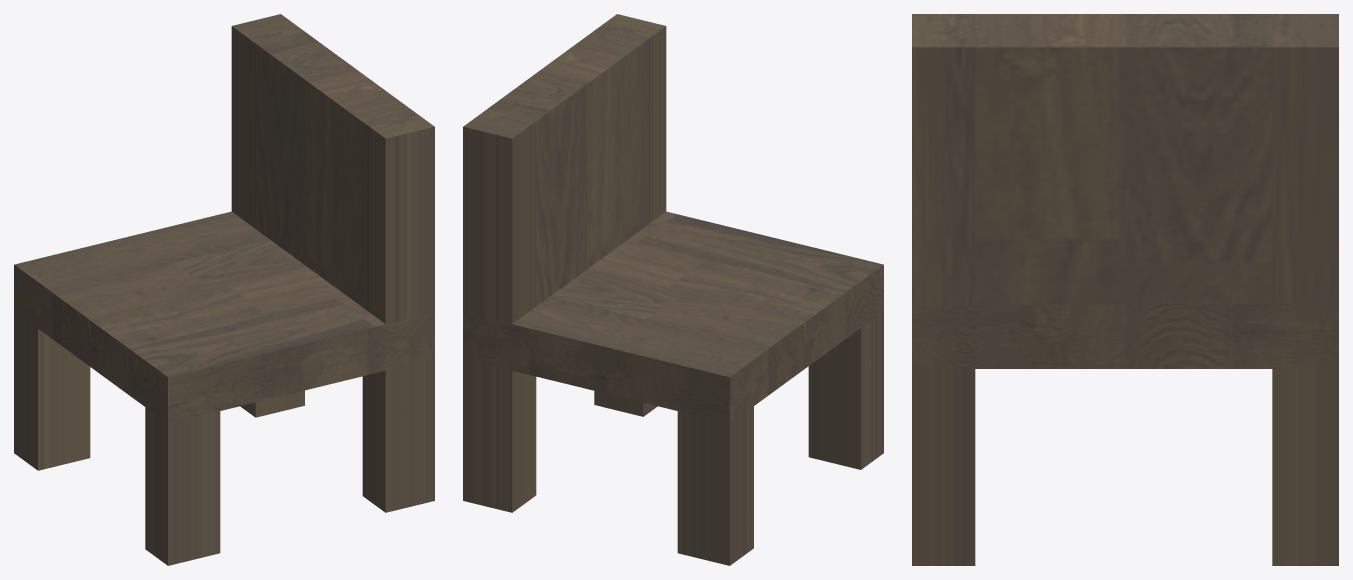
Rendered from chair.gltf.
3 renders of one model, left to right at view 1: azimuth 30°, elevation 25°; view 2: azimuth 150°, elevation 25°; view 3: azimuth 270°, elevation 25°, orthographic. The views are drawn at different scales.
Visible parts, largest first — view 1: Chair; view 2: Chair; view 3: Chair.
Part boxes in pixels (x1,y1,x2,y2): Chair: [14, 14, 434, 565]; Chair: [463, 14, 883, 565]; Chair: [912, 14, 1338, 565].
Bounding box in the file's own units: 1.47 × 1.97 × 1.47.
1 material, 1 textured.
